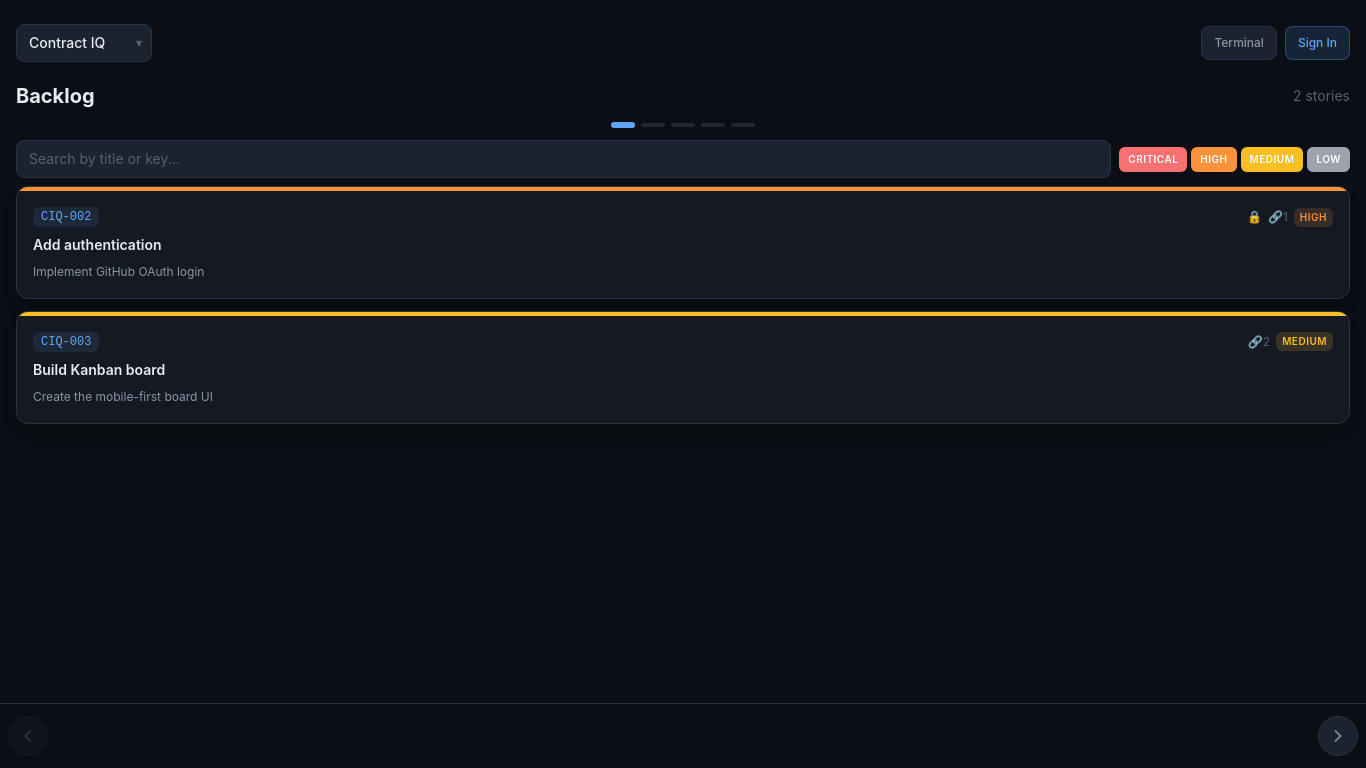
Test case: BLF-004: Dot indicators show dash-style column position › clicking a dot navigates to its column and updates active indicator
This screenshot has width=1366, height=768.
Expected: the heading "Backlog" is shown, [16, 82, 94, 110]
Click the "Done" dot (index 4)
Click the button named "Done" at (743, 125), box [731, 123, 755, 127]
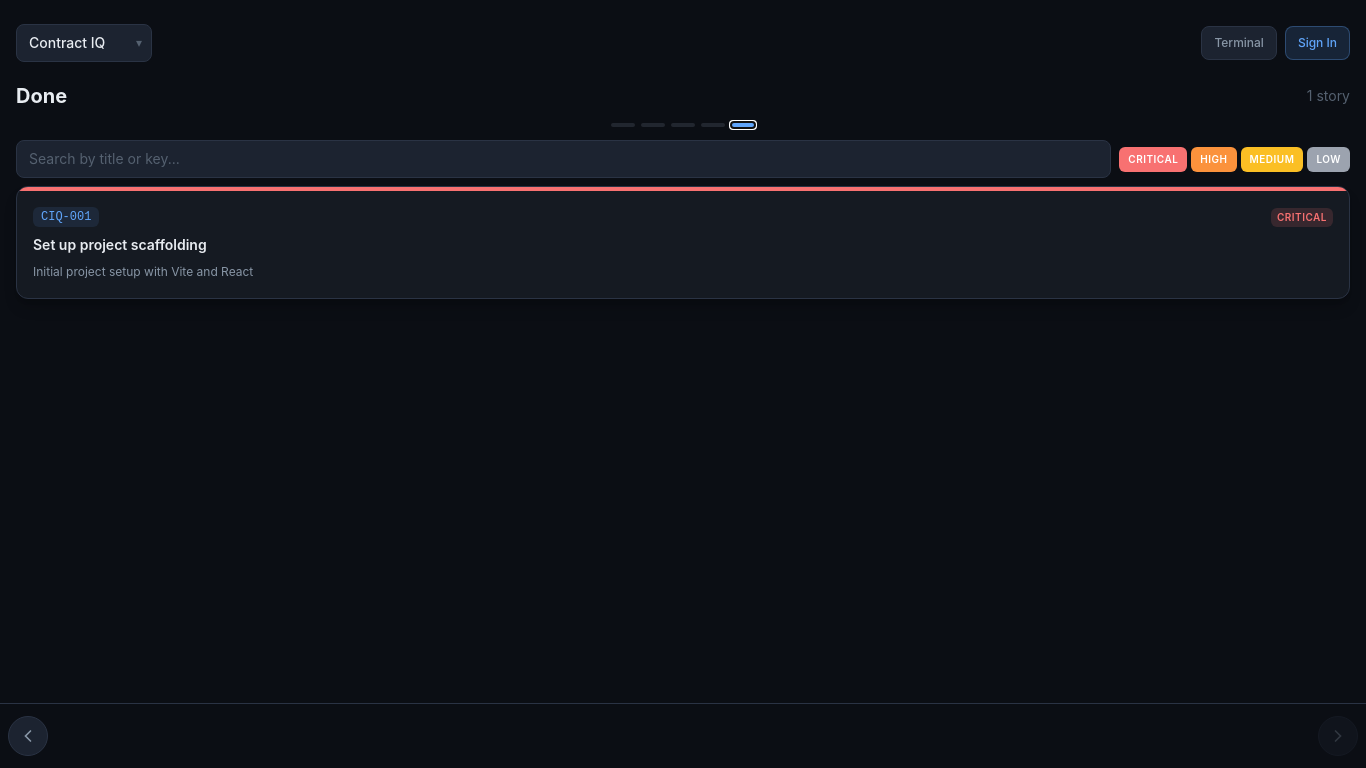
Result: the heading "Done" is shown at [16, 82, 67, 110]
